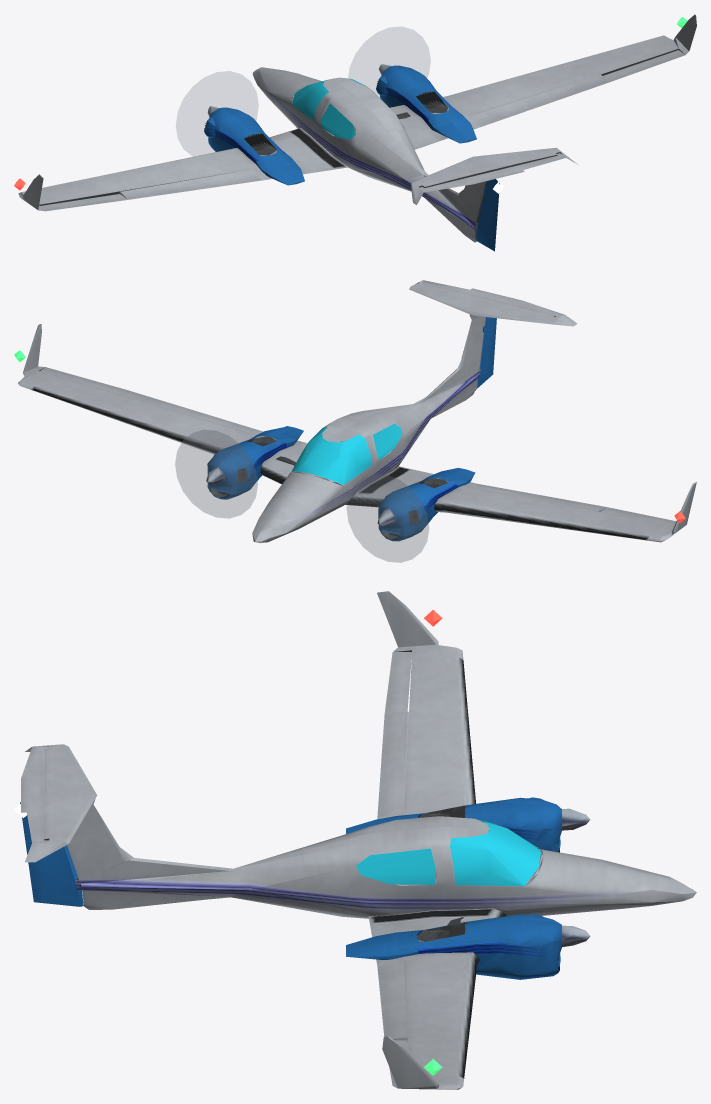
The picture shows the model from 3 angles, top to bottom: view 1: azimuth 30°, elevation 25°; view 2: azimuth 150°, elevation 25°; view 3: azimuth 270°, elevation 25°; orthographic projection. The views are drawn at different scales.
Visible parts, largest first — view 1: da42; view 2: da42; view 3: da42.
Boxes of the visible parts, x1=… form: da42: x1=14, y1=14, x2=696, y2=251; da42: x1=14, y1=280, x2=696, y2=562; da42: x1=14, y1=591, x2=696, y2=1089.
Size of the model in its own units: 13.65 by 2.05 by 8.62.
Materials: 7 (2 with a texture image).
